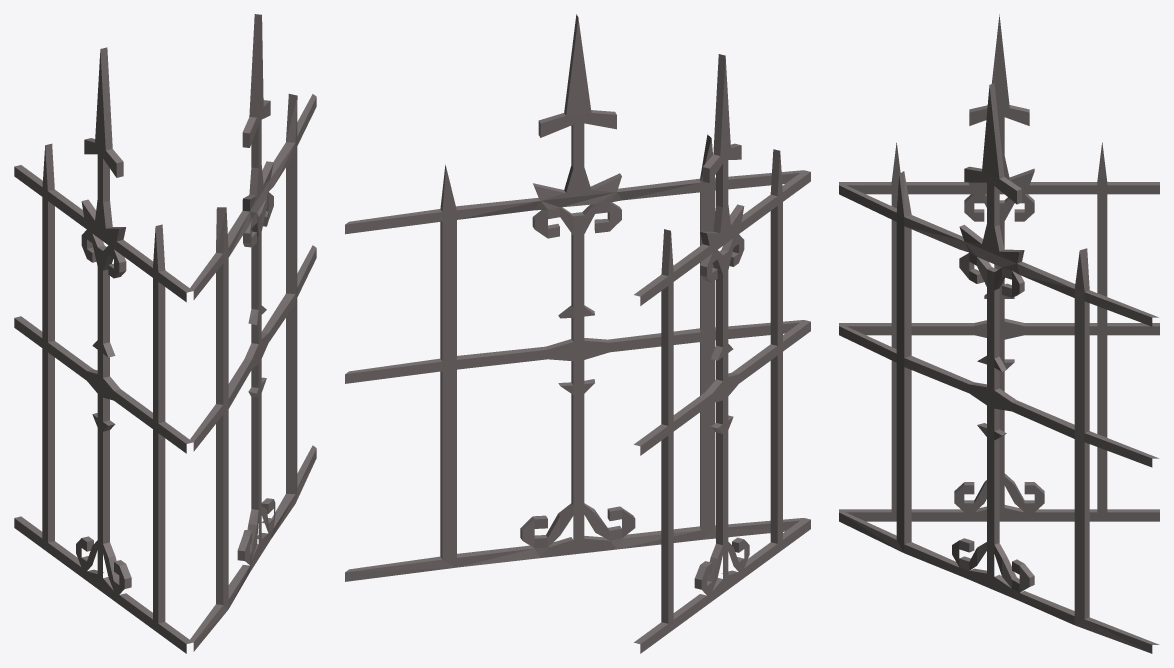
3 views of the same model, side by side, from view 1: azimuth 30°, elevation 25°; view 2: azimuth 150°, elevation 25°; view 3: azimuth 270°, elevation 25° (orthographic). The views are drawn at different scales.
Bounding box in the file's own units: 128 × 222 × 128.
1 material, 1 textured.
